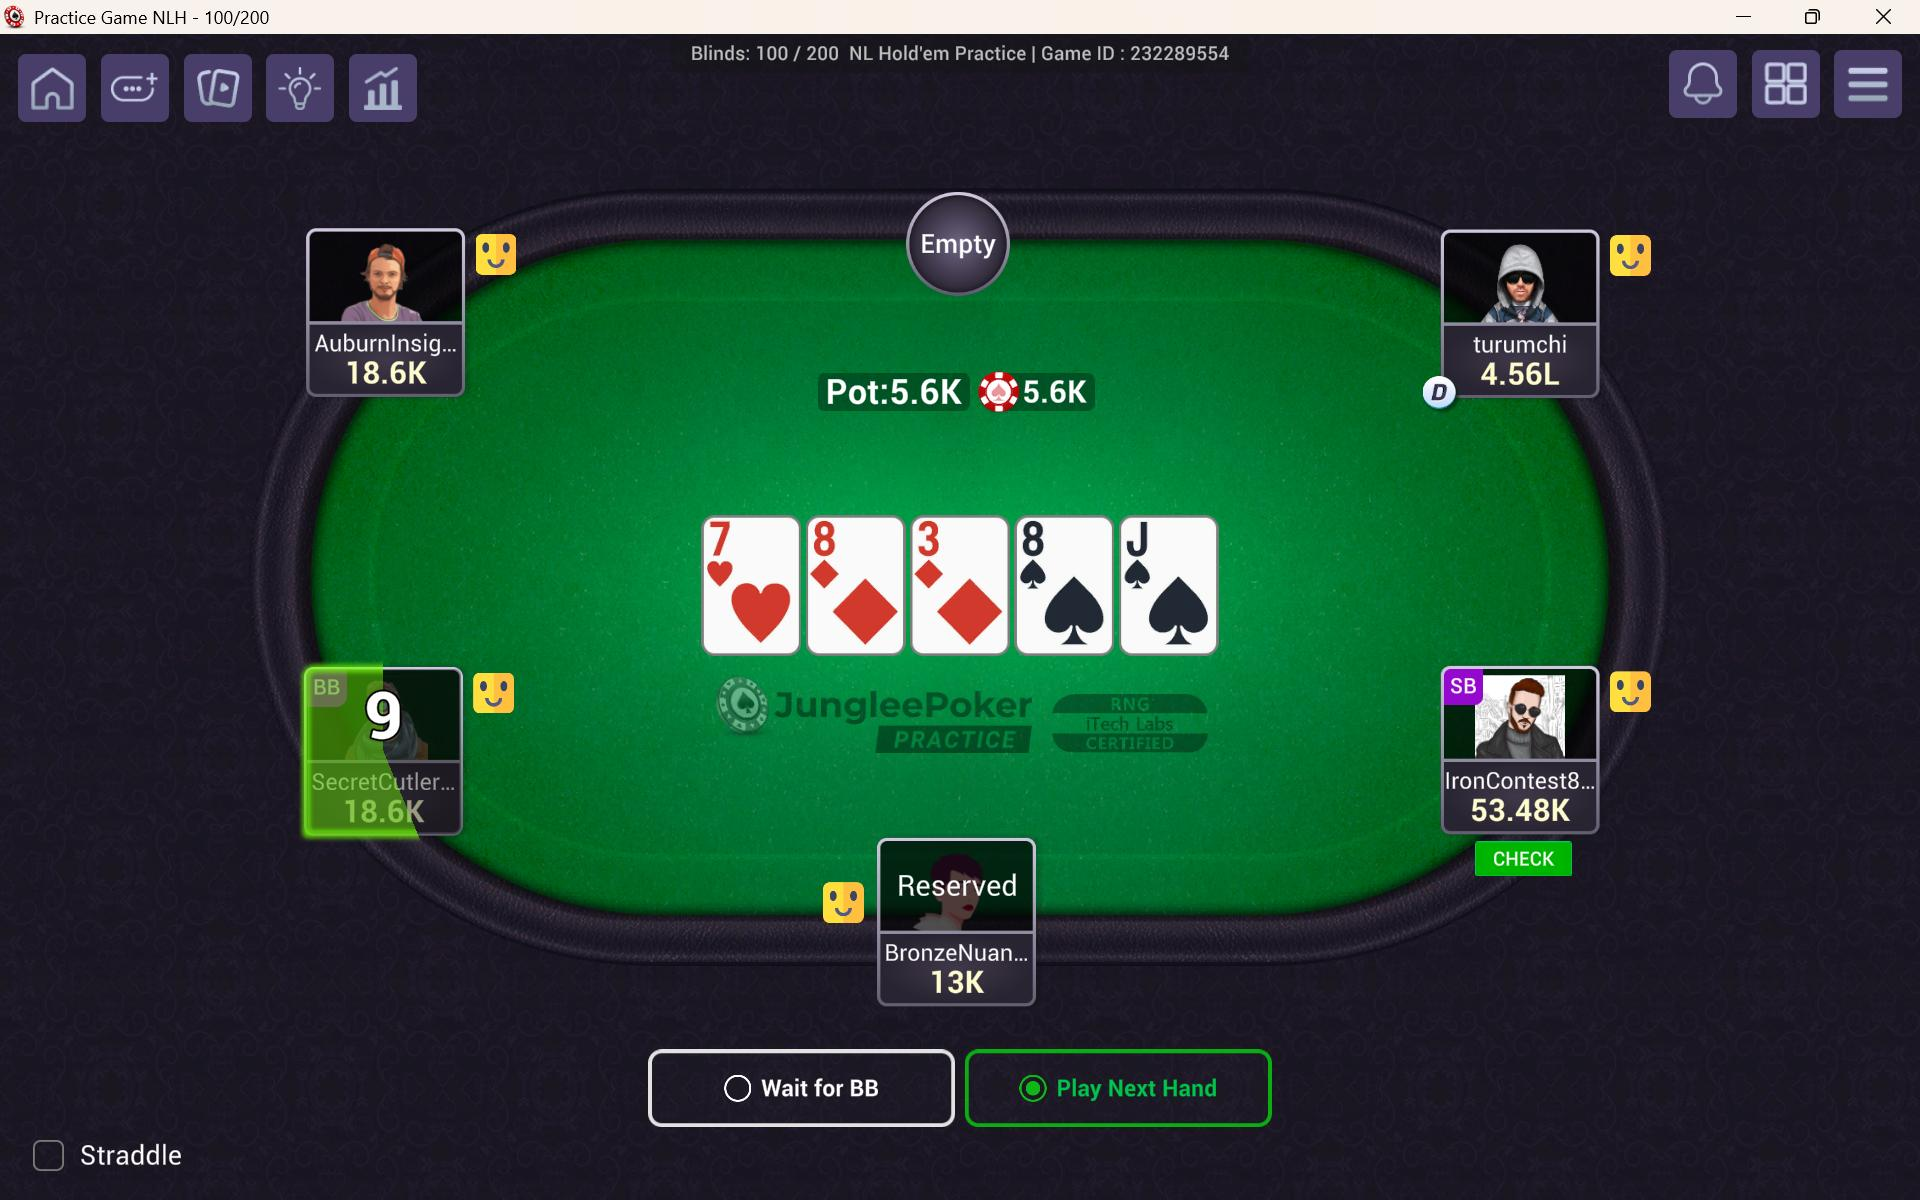flop1_rank: (705, 517, 764, 557)
flop1_suite_heart: (723, 581, 798, 655)
flop2_rank: (810, 517, 865, 563)
flop2_suite_diamond: (829, 572, 908, 653)
flop3_rank: (915, 516, 968, 563)
flop3_suite_diamond: (940, 578, 1012, 650)
my_stack: (900, 955, 1010, 1005)
river_rank: (1122, 517, 1182, 563)
river_suite_spades: (1147, 572, 1218, 653)
total_pot: (822, 371, 1100, 411)
turn_rank: (1017, 520, 1073, 563)
turn_suite_spades: (1042, 567, 1110, 655)
villian1_name: (303, 765, 460, 798)
villian1_stack: (318, 792, 445, 832)
villian2_name: (307, 325, 464, 358)
villian2_stack: (328, 359, 440, 395)
villian3_name: (1453, 322, 1592, 359)
villian3_stack: (1460, 358, 1583, 390)
villian5_name: (1444, 760, 1590, 798)
villian5_stack: (1453, 795, 1585, 828)
